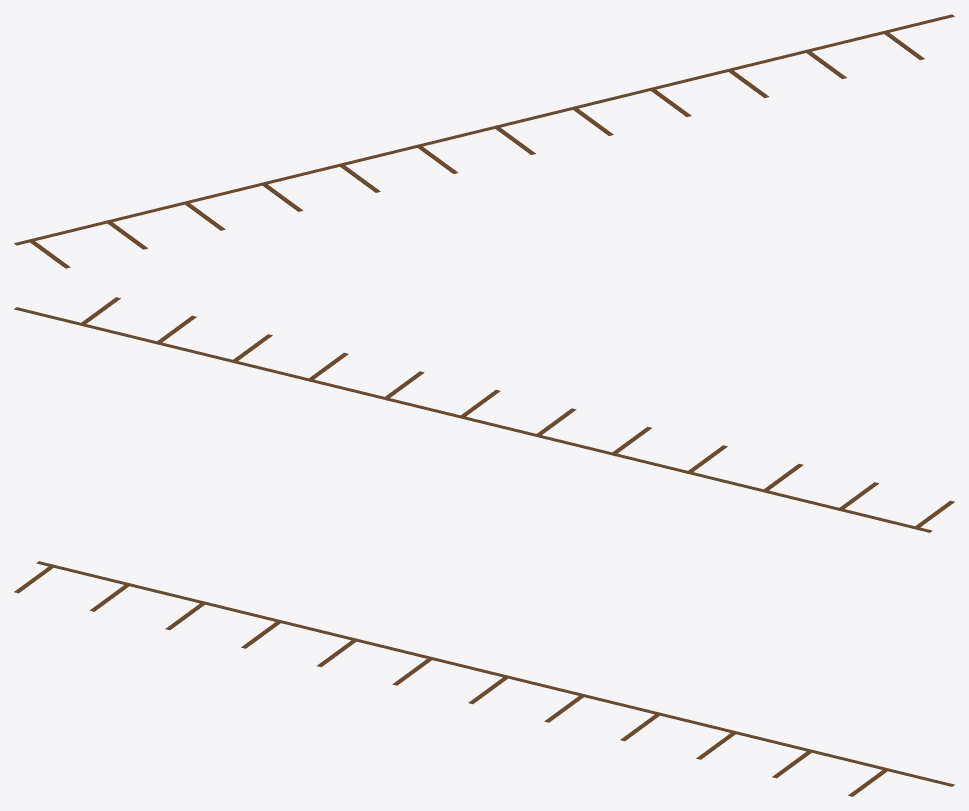
File: seccion_calles.fbx
3 views of the same model, one above another, from view 1: azimuth 30°, elevation 25°; view 2: azimuth 150°, elevation 25°; view 3: azimuth 330°, elevation 25° (orthographic). The views are drawn at different scales.
Parts seen in each view (by area): view 1: Calle26; view 2: Calle26; view 3: Calle26.
Boxes of the visible parts, x1,y1,x2,y2 form: Calle26: (14,14,954,268); Calle26: (14,297,954,532); Calle26: (14,561,954,796).
Size of the model in its own units: 392317 by 124 by 28082.
